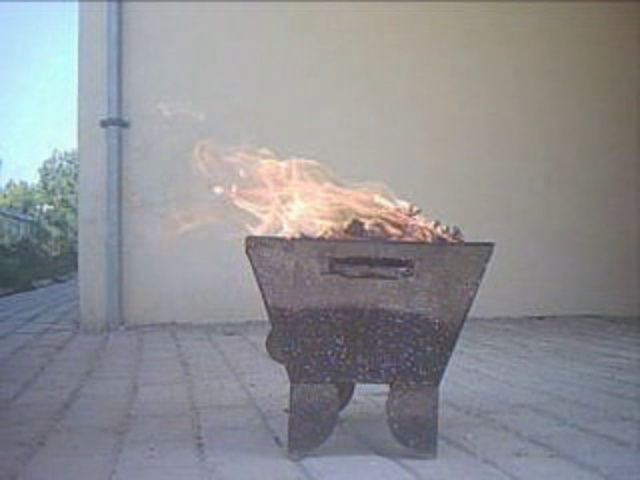fire: (211, 142, 435, 242)
